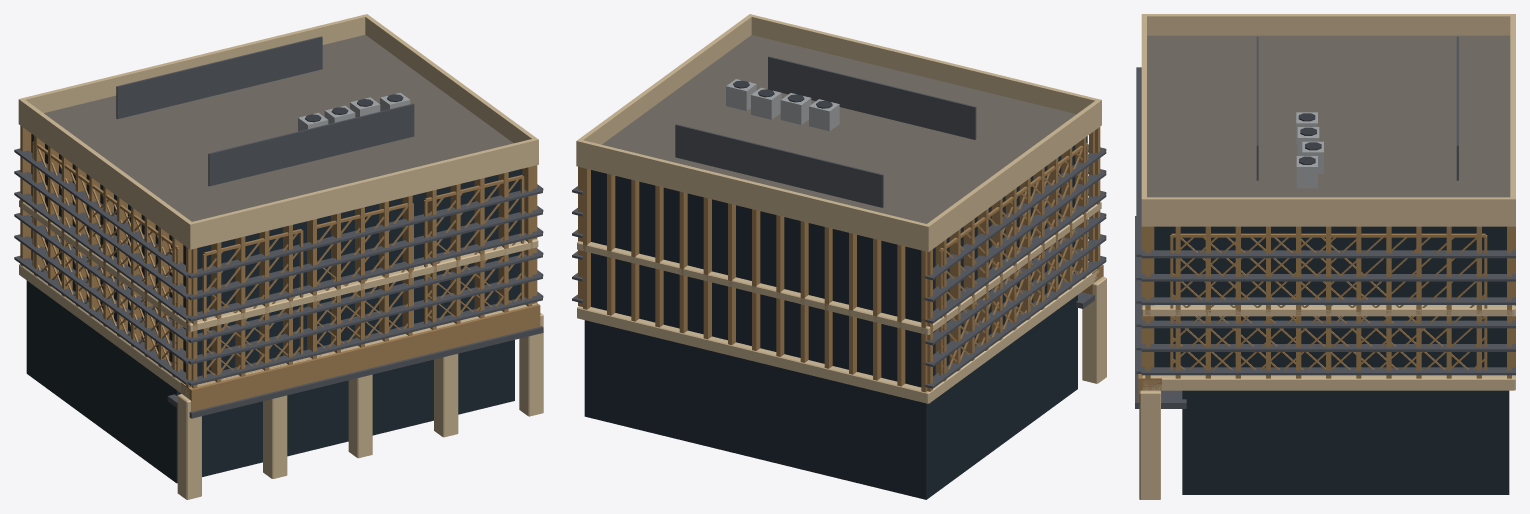
Rendered from commercial-podium.glb.
3 views of the same model, side by side, from view 1: azimuth 30°, elevation 25°; view 2: azimuth 150°, elevation 25°; view 3: azimuth 270°, elevation 25° (orthographic). The views are drawn at different scales.
Parts seen in each view (by area): view 1: commercial-podium_v0, commercial-podium_v2, commercial-podium_v1; view 2: commercial-podium_v0, commercial-podium_v2, commercial-podium_v1; view 3: commercial-podium_v0, commercial-podium_v2, commercial-podium_v1.
Part boxes in pixels (x1,y1,x2,y2): commercial-podium_v0: [18, 14, 543, 499]; commercial-podium_v2: [14, 148, 543, 385]; commercial-podium_v1: [32, 141, 524, 377]; commercial-podium_v0: [576, 14, 1106, 499]; commercial-podium_v2: [572, 144, 1106, 388]; commercial-podium_v1: [939, 143, 1088, 375]; commercial-podium_v0: [1135, 14, 1515, 499]; commercial-podium_v2: [1136, 67, 1515, 375]; commercial-podium_v1: [1170, 233, 1487, 370].
Bounding box in the file's own units: 20.9 × 16.1 × 17.7.
